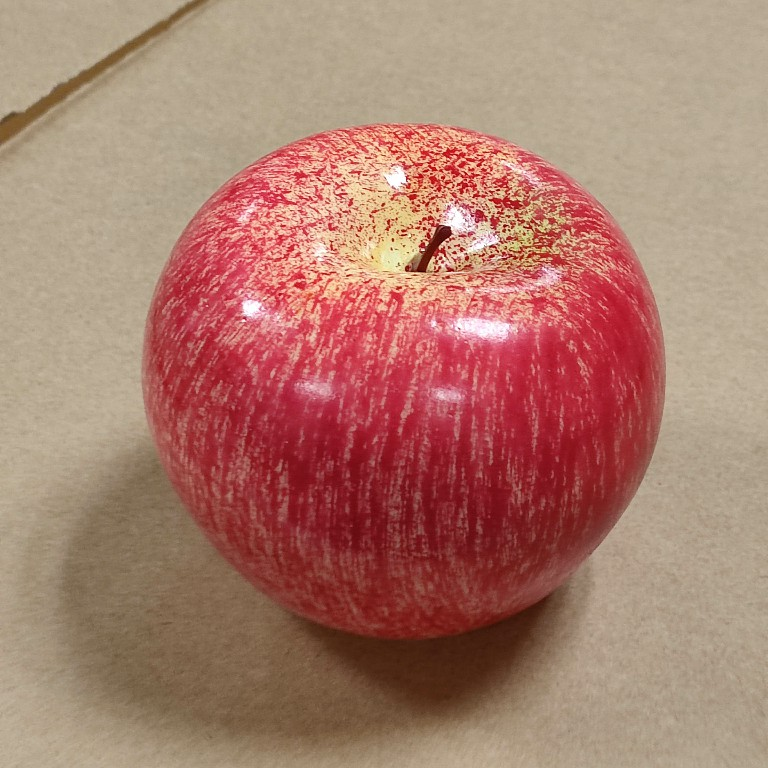fruit_apple: (138, 118, 673, 644)
